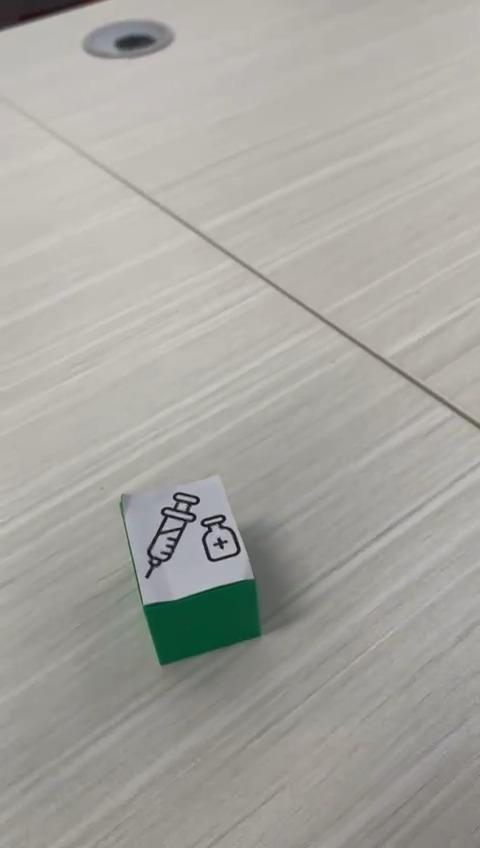antiseptic cream: (118, 473, 262, 666)
